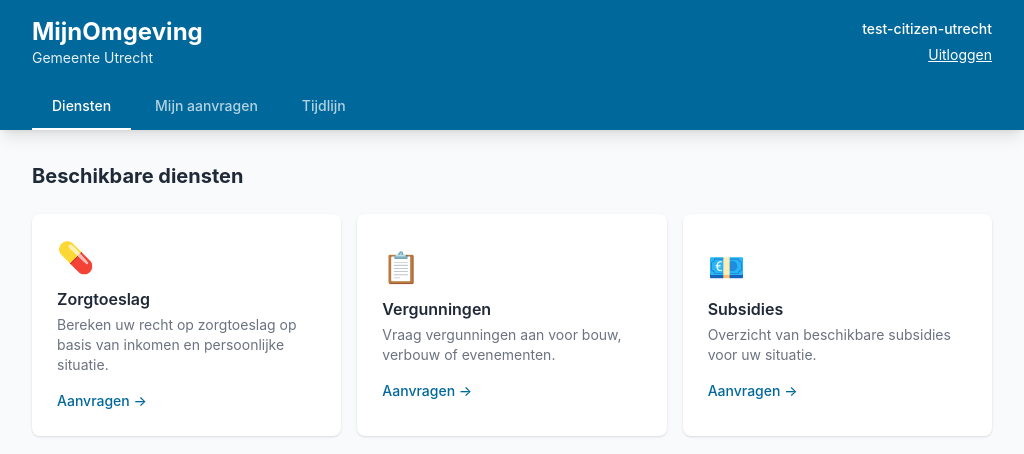
it: Dashboard applications tab › lists the applications the process history returned
Click the button "Mijn aanvragen".
click(206, 107)  # box [135,84,278,130]
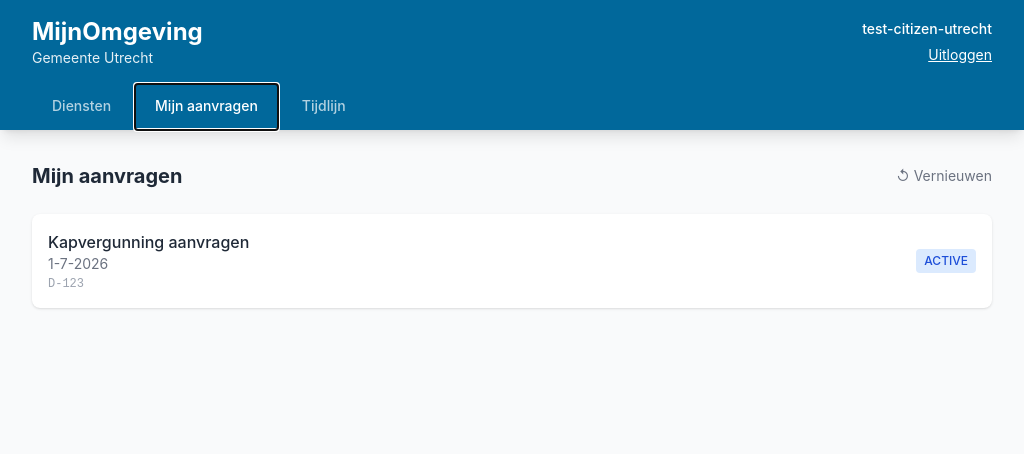
Expected: the text "D-123" is shown, [48,277,84,291]
